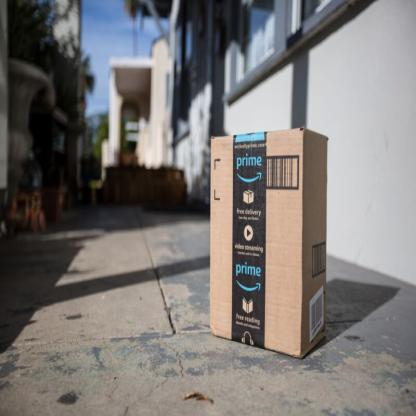package: (208, 125, 330, 364)
